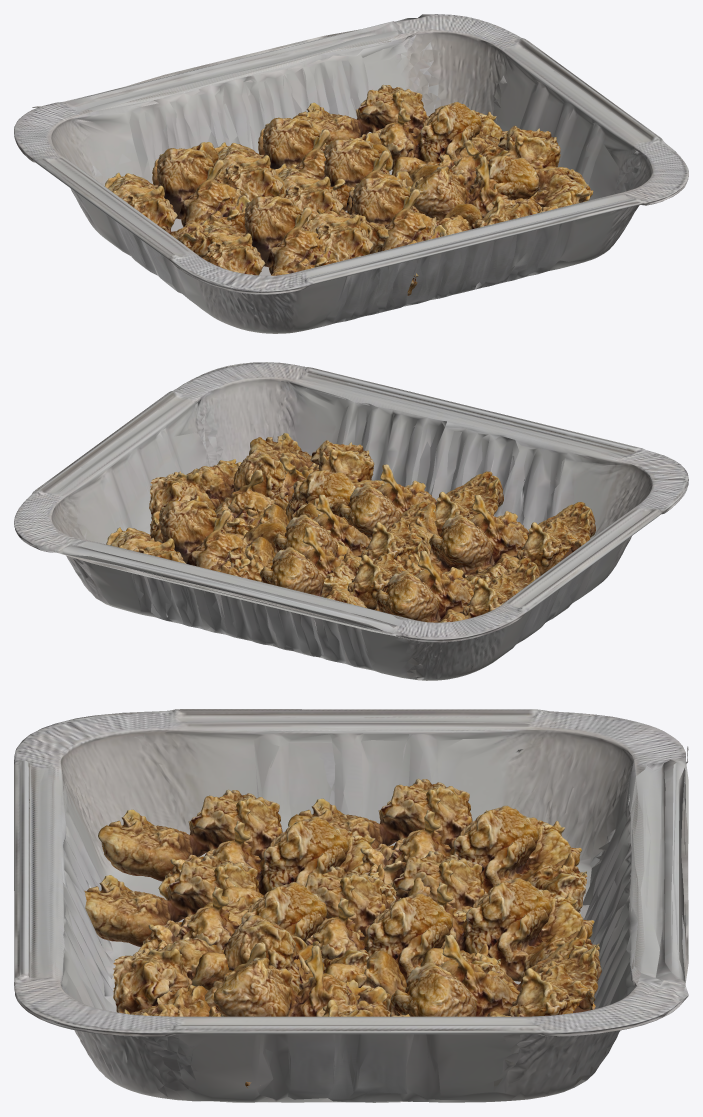
Rendered from bites.glb.
3 views of the same model, one above another, from view 1: azimuth 30°, elevation 25°; view 2: azimuth 150°, elevation 25°; view 3: azimuth 270°, elevation 25° (orthographic). The views are drawn at different scales.
Parts seen in each view (by area): view 1: node_0, 3DModel.008 (×8); view 2: node_0, 3DModel.008 (×8); view 3: node_0, 3DModel.008 (×8).
Boxes of the visible parts, left/top/right/bottom form: node_0: left=14, top=14, right=688, bottom=333; 3DModel.008 (×8): left=104, top=84, right=593, bottom=295; node_0: left=14, top=362, right=688, bottom=680; 3DModel.008 (×8): left=106, top=433, right=595, bottom=622; node_0: left=14, top=709, right=688, bottom=1102; 3DModel.008 (×8): left=84, top=778, right=601, bottom=1088.
Bounding box in the file's own units: 0.3177 × 0.0517 × 0.2808.
Materials: 2 (2 with a texture image).
